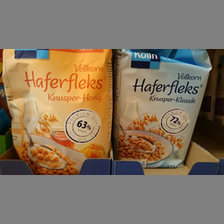cereal: (1, 49, 112, 174), (115, 48, 213, 168)
